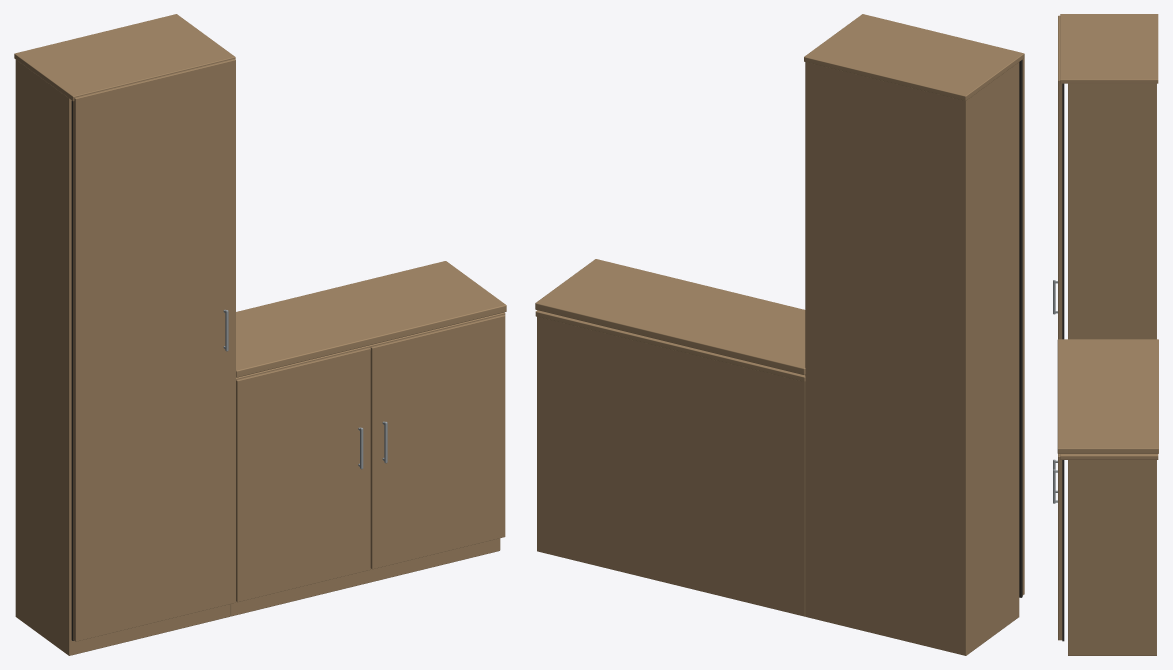
The model's file is original-shoe-counter.glb.
The picture shows the model from 3 angles, left to right: view 1: azimuth 30°, elevation 25°; view 2: azimuth 150°, elevation 25°; view 3: azimuth 270°, elevation 25°; orthographic projection. The views are drawn at different scales.
Parts seen in each view (by area): view 1: Cabinet carcass, Recessed plinth; view 2: Cabinet carcass, Recessed plinth; view 3: Cabinet carcass, Recessed plinth, Handle mounting foot.
Boxes of the visible parts, x1,y1,x2,y2 form: Cabinet carcass: (14,14,506,655); Recessed plinth: (71,101,73,640); Cabinet carcass: (535,14,1024,655); Recessed plinth: (1019,60,1022,597); Cabinet carcass: (1057,14,1158,655); Recessed plinth: (1062,83,1064,641); Handle mounting foot: (1053,280,1057,503).
Size of the model in its own units: 1.6 by 2 by 0.41.
